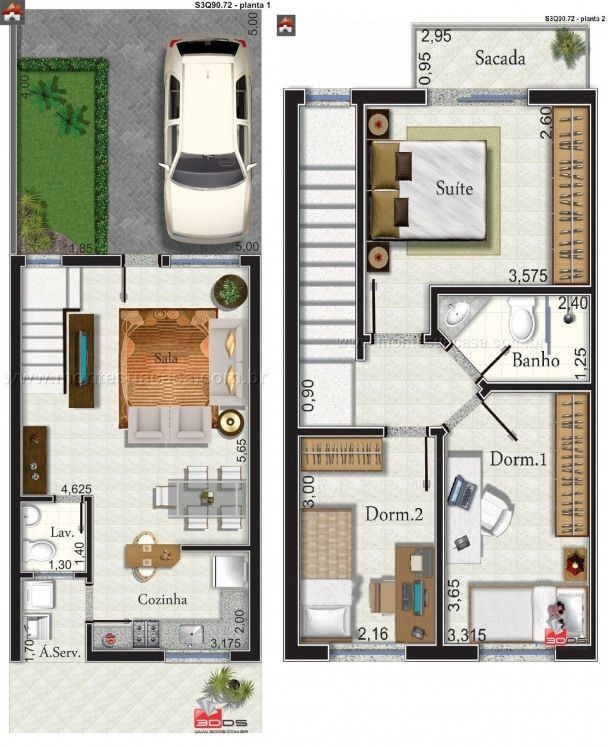wall: (285, 89, 298, 658), (251, 256, 260, 660), (12, 257, 19, 659), (437, 427, 443, 651), (357, 92, 362, 356), (590, 89, 596, 289), (591, 383, 595, 648), (430, 287, 597, 293), (407, 645, 477, 659), (352, 90, 425, 103), (529, 90, 596, 104), (480, 383, 591, 390), (86, 651, 163, 661), (287, 428, 382, 436), (62, 256, 121, 265), (556, 645, 596, 658), (286, 646, 328, 658), (86, 497, 91, 582), (591, 285, 595, 391), (430, 286, 436, 334), (180, 545, 251, 549), (285, 89, 304, 103), (233, 652, 259, 661), (86, 624, 91, 659), (242, 256, 259, 266), (18, 496, 52, 501), (425, 336, 445, 342), (10, 257, 24, 265), (430, 428, 444, 435), (161, 256, 169, 267), (17, 572, 33, 577), (359, 335, 370, 342), (74, 573, 90, 577), (85, 497, 91, 501)
